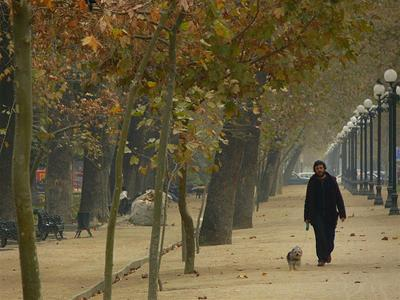person: (305, 161, 346, 266)
